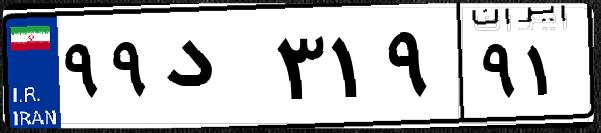1: (330, 28, 385, 110), (525, 38, 570, 115)
3: (270, 28, 330, 110)
9: (385, 28, 445, 110), (57, 26, 110, 100), (475, 38, 525, 113), (110, 28, 158, 98)
د: (158, 20, 270, 120)
